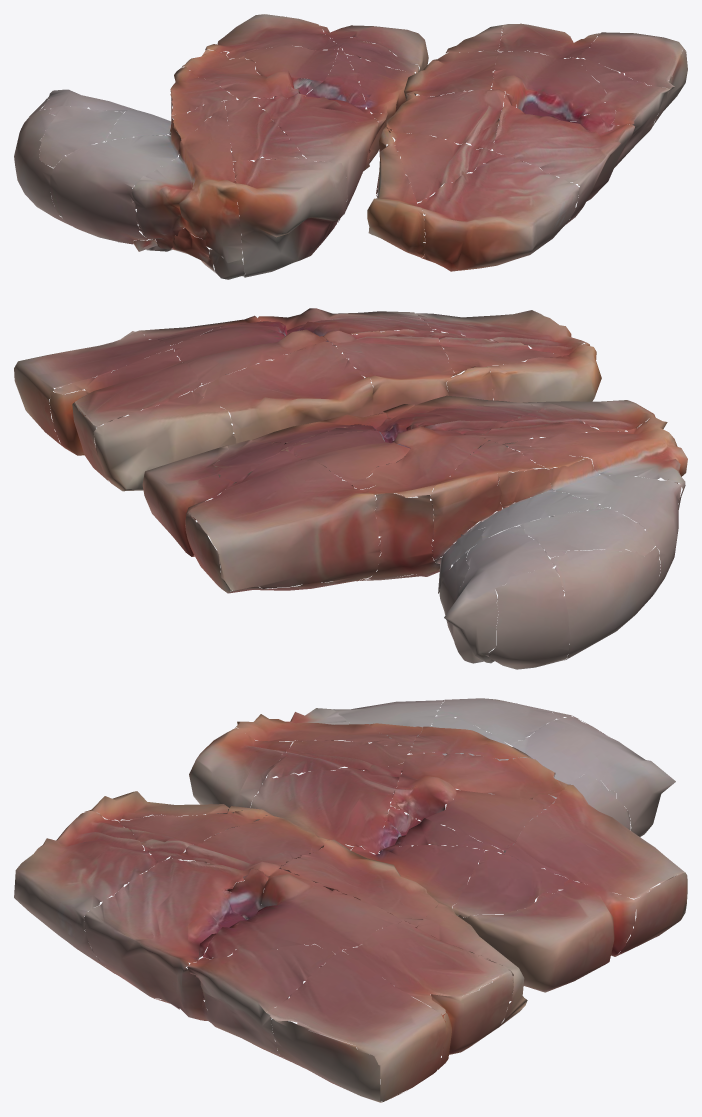
Rendered from raw_fillet.glb.
3 views of the same model, one above another, from view 1: azimuth 30°, elevation 25°; view 2: azimuth 150°, elevation 25°; view 3: azimuth 270°, elevation 25° (orthographic). The views are drawn at different scales.
Visible parts, largest first — view 1: tripo_node_4b22b861-ed71-4a87-96ba-dc8428c89460; view 2: tripo_node_4b22b861-ed71-4a87-96ba-dc8428c89460; view 3: tripo_node_4b22b861-ed71-4a87-96ba-dc8428c89460.
Part boxes in pixels (x1=…): tripo_node_4b22b861-ed71-4a87-96ba-dc8428c89460: x1=14, y1=14, x2=687, y2=279; tripo_node_4b22b861-ed71-4a87-96ba-dc8428c89460: x1=14, y1=308, x2=687, y2=669; tripo_node_4b22b861-ed71-4a87-96ba-dc8428c89460: x1=14, y1=698, x2=687, y2=1102.
Size of the model in its own units: 1 by 0.1953 by 0.8088.
Materials: 1 (1 with a texture image).
